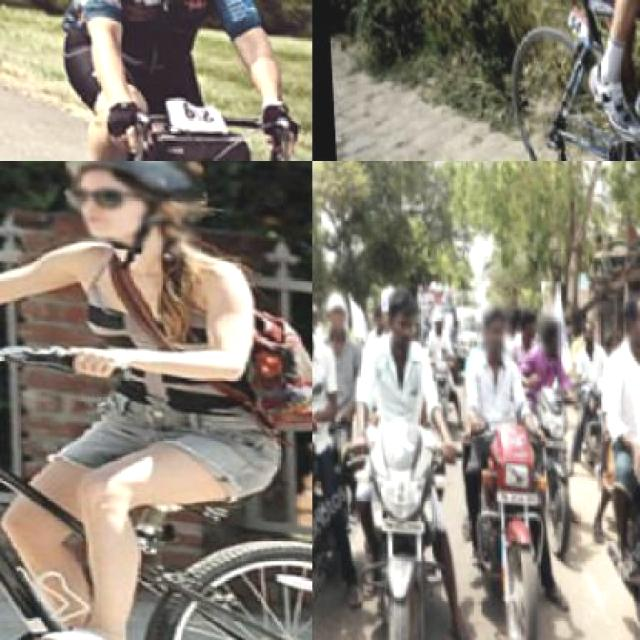With Helmet: (63, 160, 208, 249)
Without Helmet: (472, 291, 516, 358), (383, 277, 419, 349), (318, 277, 350, 335), (534, 302, 564, 351), (426, 296, 452, 346), (620, 282, 638, 349), (578, 302, 602, 351), (517, 300, 538, 342), (312, 281, 322, 354)
